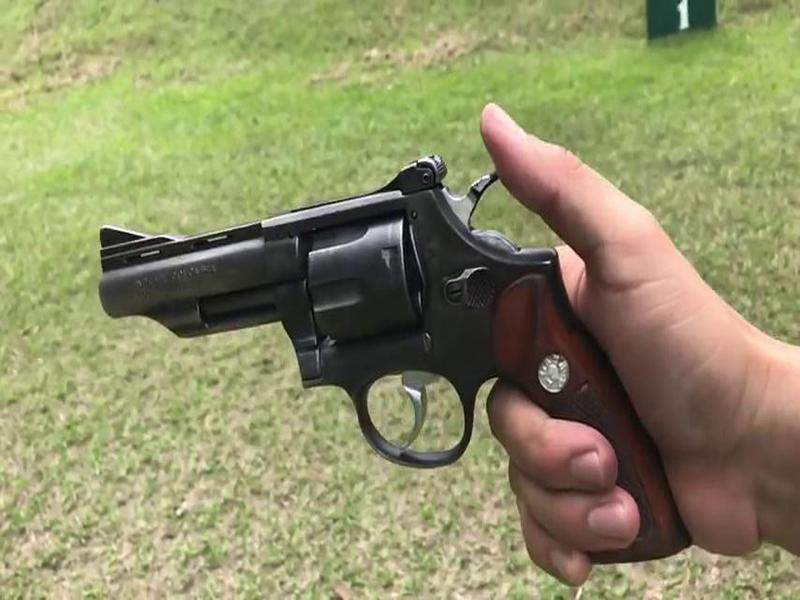Revolver: (77, 138, 728, 574)
